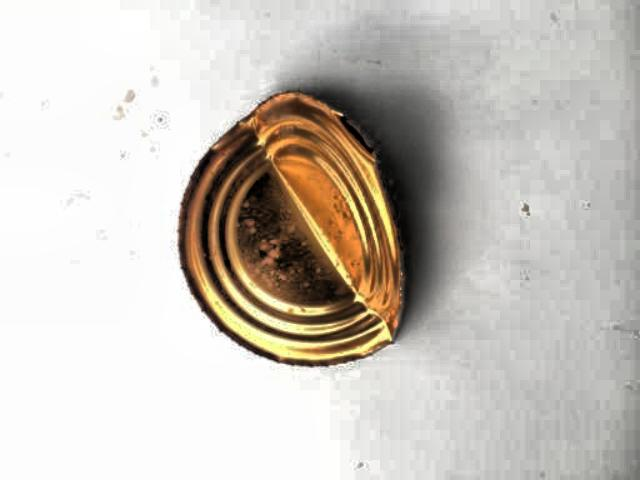Almennt: (176, 86, 424, 372)
